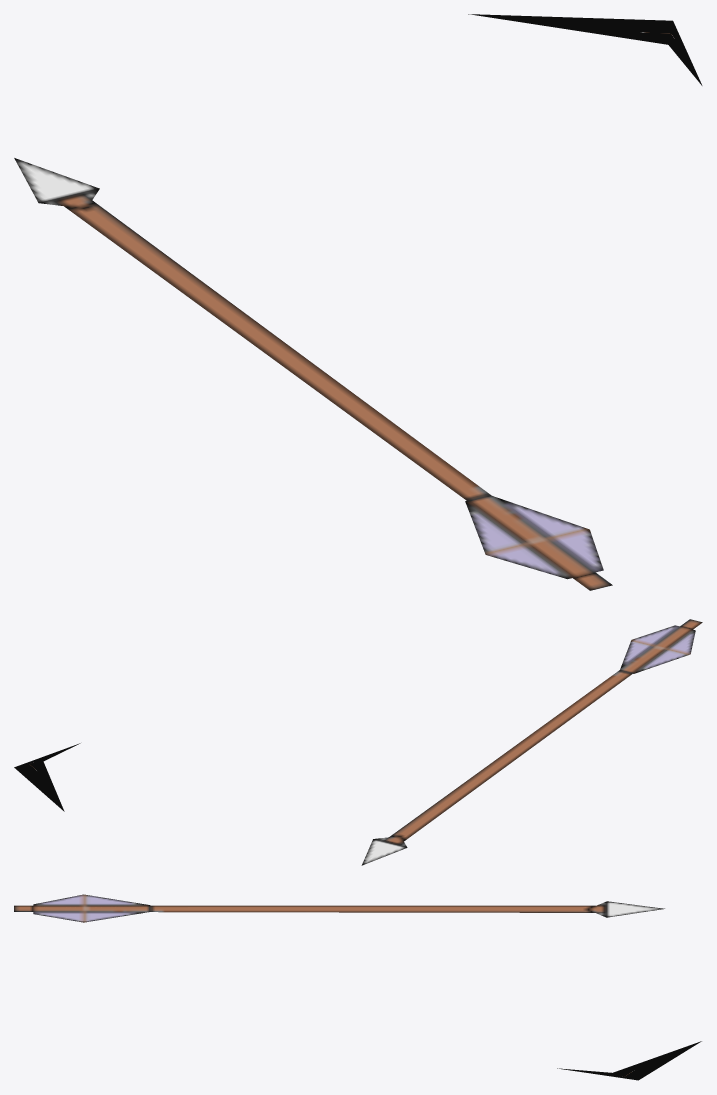
File: arrow.glb
The picture shows the model from 3 angles, top to bottom: view 1: azimuth 30°, elevation 25°; view 2: azimuth 150°, elevation 25°; view 3: azimuth 270°, elevation 25°; orthographic projection. The views are drawn at different scales.
Visible parts, largest first — view 1: Plane; view 2: Plane; view 3: Plane.
Boxes of the visible parts, x1=… form: Plane: x1=14, y1=14, x2=702, y2=590; Plane: x1=14, y1=619, x2=702, y2=865; Plane: x1=14, y1=894, x2=701, y2=1080.
Bounding box in the file's own units: 13.21 × 0 × 20.68.
1 material, 1 textured.
